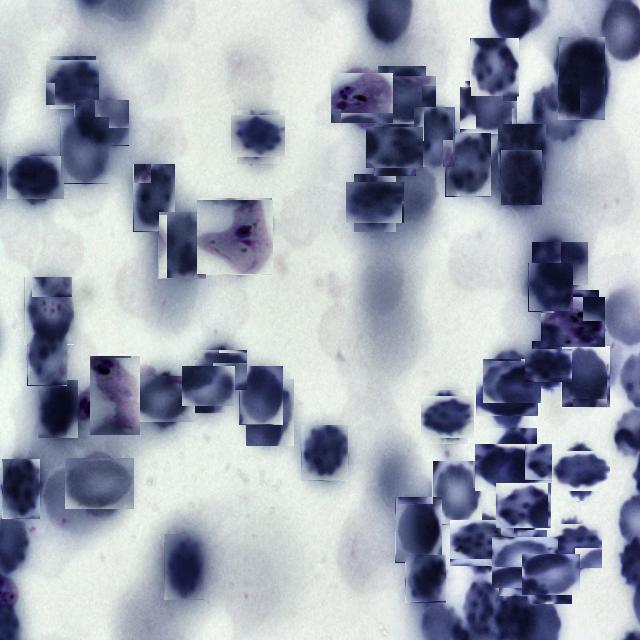red blood cell: (558, 37, 605, 120), (482, 436, 544, 498), (70, 453, 130, 514), (496, 533, 554, 592), (24, 277, 74, 345), (373, 71, 431, 129), (60, 117, 109, 184), (246, 379, 294, 446), (158, 212, 206, 279), (432, 461, 482, 525), (454, 516, 510, 572), (395, 497, 442, 563), (136, 371, 191, 427), (529, 84, 580, 144), (561, 346, 610, 408), (445, 133, 491, 197), (470, 38, 519, 97), (133, 164, 175, 232), (462, 84, 514, 136), (486, 354, 538, 406), (164, 534, 204, 600), (301, 425, 348, 481), (554, 446, 606, 496), (239, 366, 283, 425), (413, 107, 455, 168), (11, 152, 62, 202), (74, 100, 129, 146), (550, 521, 600, 571), (482, 372, 532, 422), (498, 480, 548, 530), (48, 58, 98, 108), (526, 550, 576, 600), (535, 239, 585, 289), (350, 178, 400, 228), (370, 122, 420, 172), (27, 324, 67, 386), (500, 150, 542, 206), (38, 380, 78, 438), (423, 393, 471, 441), (2, 459, 40, 519), (235, 112, 282, 160), (498, 124, 546, 171), (185, 363, 232, 410), (528, 263, 573, 312), (200, 347, 244, 392), (405, 554, 446, 602), (528, 345, 568, 385)
trophozoite: (198, 198, 272, 274), (82, 364, 148, 428), (544, 294, 602, 351), (334, 70, 390, 126)
